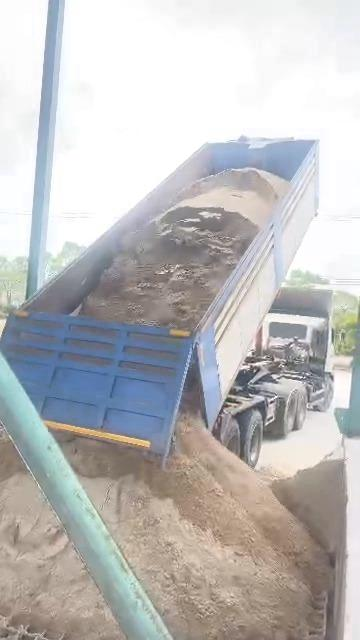sand: (63, 421, 331, 639), (80, 168, 287, 329), (0, 438, 121, 639), (272, 448, 345, 578), (180, 361, 203, 420), (0, 615, 46, 639), (316, 589, 334, 638), (257, 466, 288, 484)
